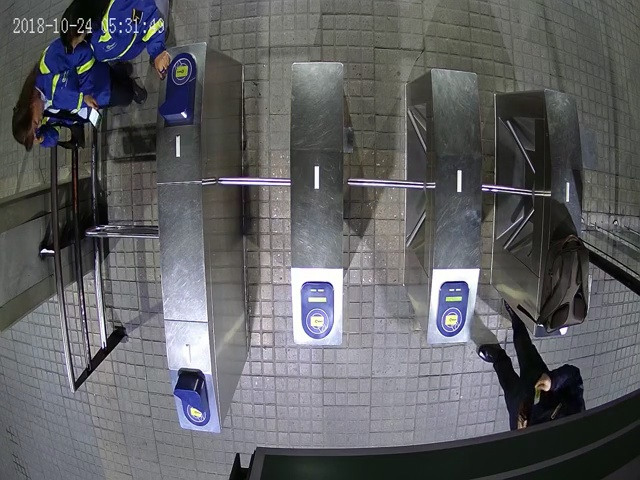Chaleco_azul: (12, 42, 147, 148), (58, 1, 172, 84)
